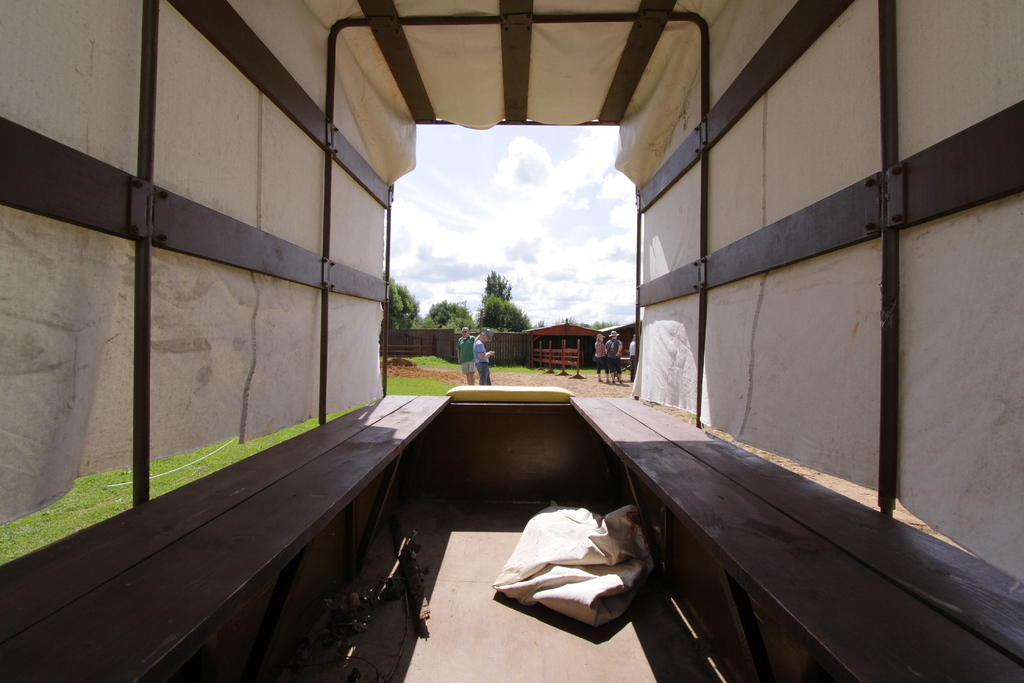Tree: (453, 261, 545, 342), (382, 274, 419, 336), (420, 299, 469, 331)
